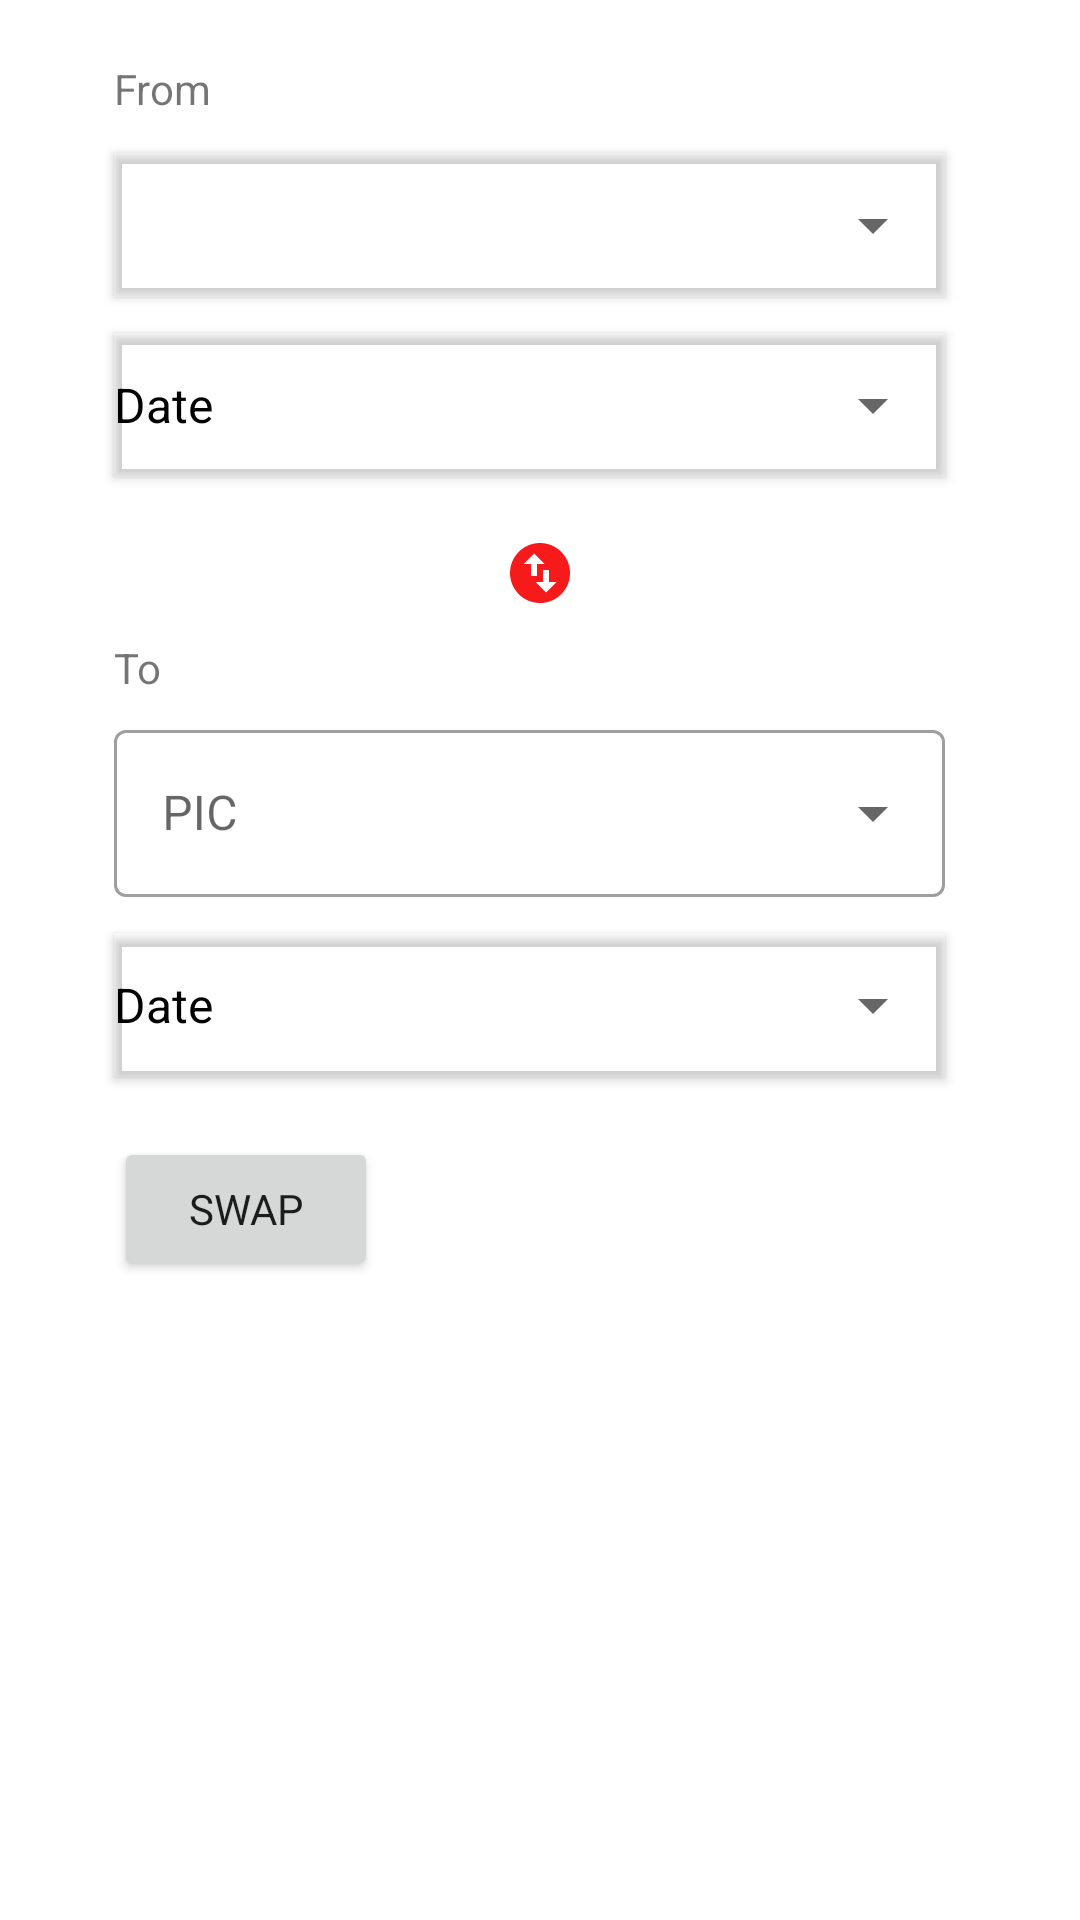

Icons on this 1080×1920 Android screen, each with the point to tap as point (x, y):
swap vertical circle: point (540, 573)
